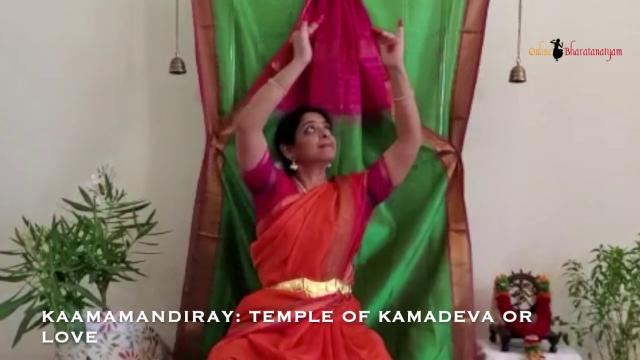mrighasheesh: (274, 4, 332, 74), (358, 16, 422, 71)
